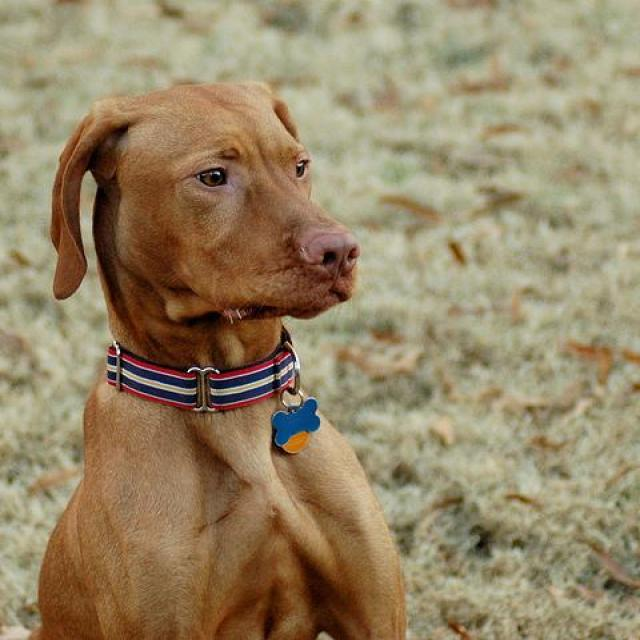vizsla: (27, 72, 409, 638)
